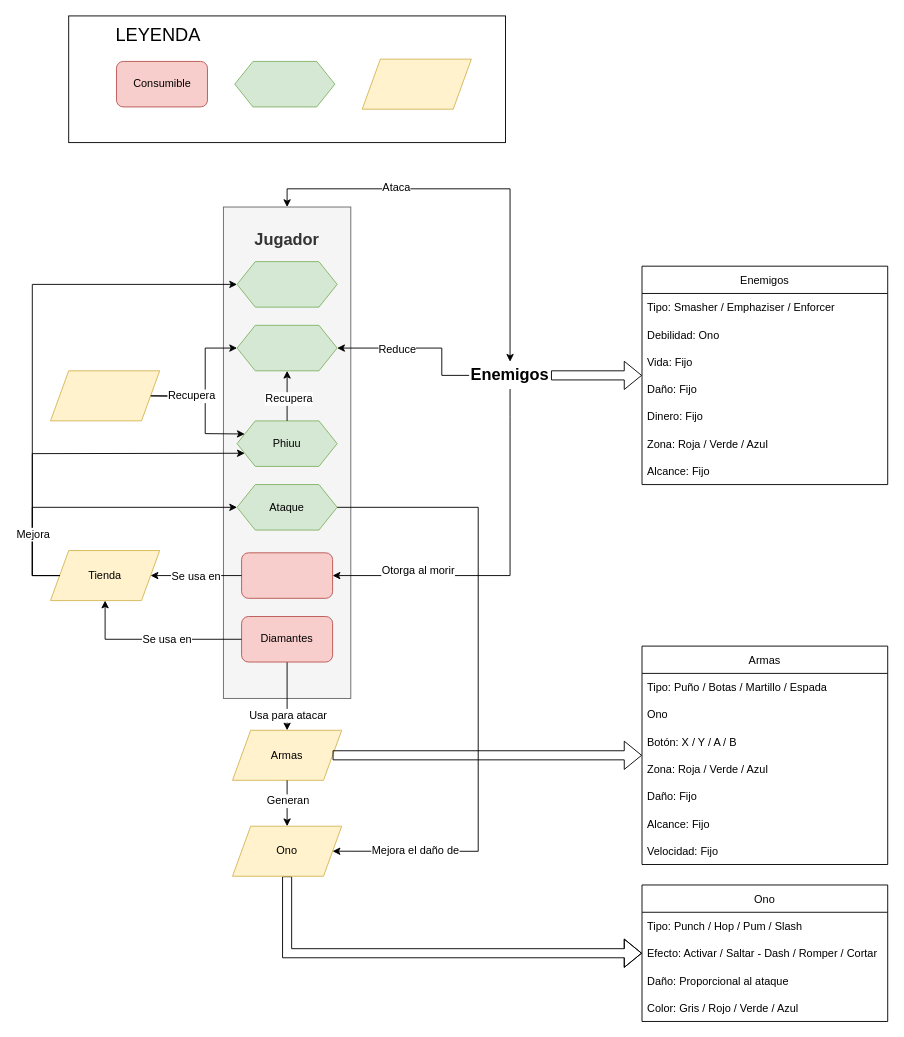
The diagram is 904 pixels wide and 1037 high, and some of its shapes have lost their labels. The shapes that lost their labels are listed below. From the top down, each one's box as (x1, y1, x2, y2) in pixels, then its label:
(234, 61, 335, 107): Medidores
(361, 58, 471, 109): Herramientas
(236, 261, 337, 307): Vida máxima
(236, 324, 337, 371): Vida actual
(50, 370, 160, 421): Reposo
(241, 552, 333, 598): Dinero
